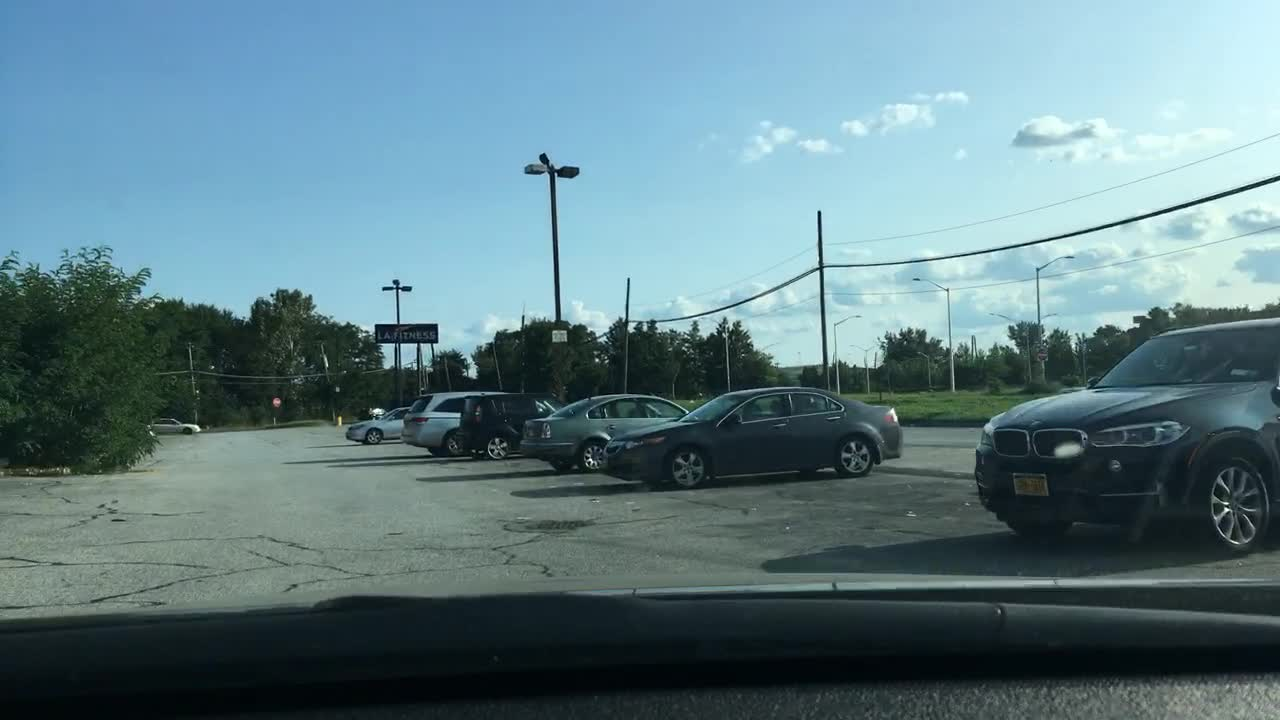car: (975, 316, 1278, 555), (600, 386, 904, 491), (520, 393, 694, 470), (460, 394, 567, 459), (399, 390, 505, 455), (344, 405, 411, 444), (148, 417, 200, 433), (361, 406, 390, 419)
traffic sign: (377, 326, 438, 343), (1038, 348, 1049, 359), (271, 397, 281, 408)
